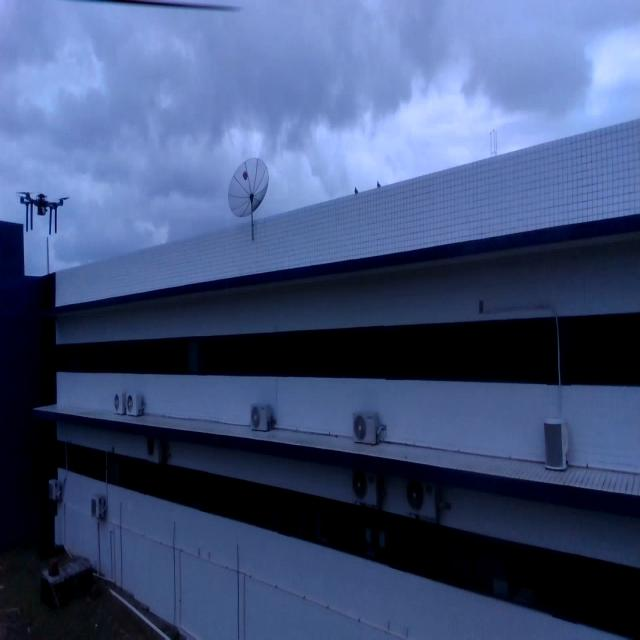-uav-: (14, 172, 78, 256)
